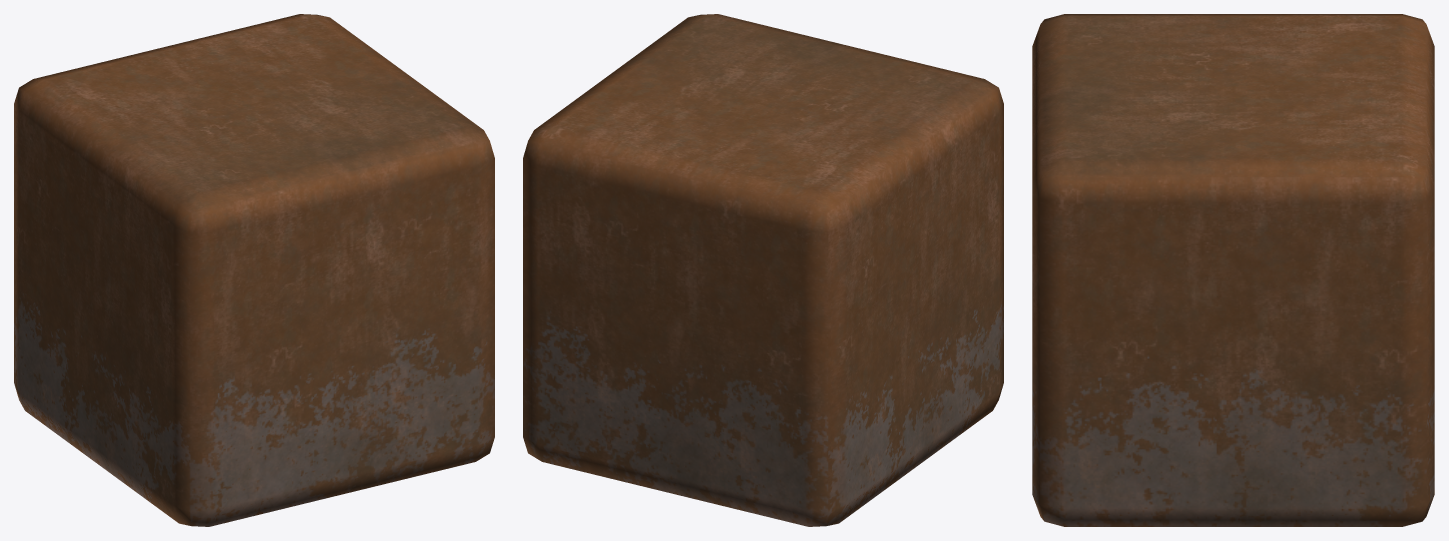
Rendered from Dirt.gltf.
3 renders of one model, left to right at view 1: azimuth 30°, elevation 25°; view 2: azimuth 150°, elevation 25°; view 3: azimuth 270°, elevation 25°, orthographic. The views are drawn at different scales.
Parts seen in each view (by area): view 1: Floor_low001; view 2: Floor_low001; view 3: Floor_low001.
Boxes of the visible parts, x1,y1,x2,y2 form: Floor_low001: (14,14,494,526); Floor_low001: (523,14,1003,526); Floor_low001: (1032,14,1434,526).
Bounding box in the file's own units: 0.5 × 0.5 × 0.5.
1 material, 1 textured.
